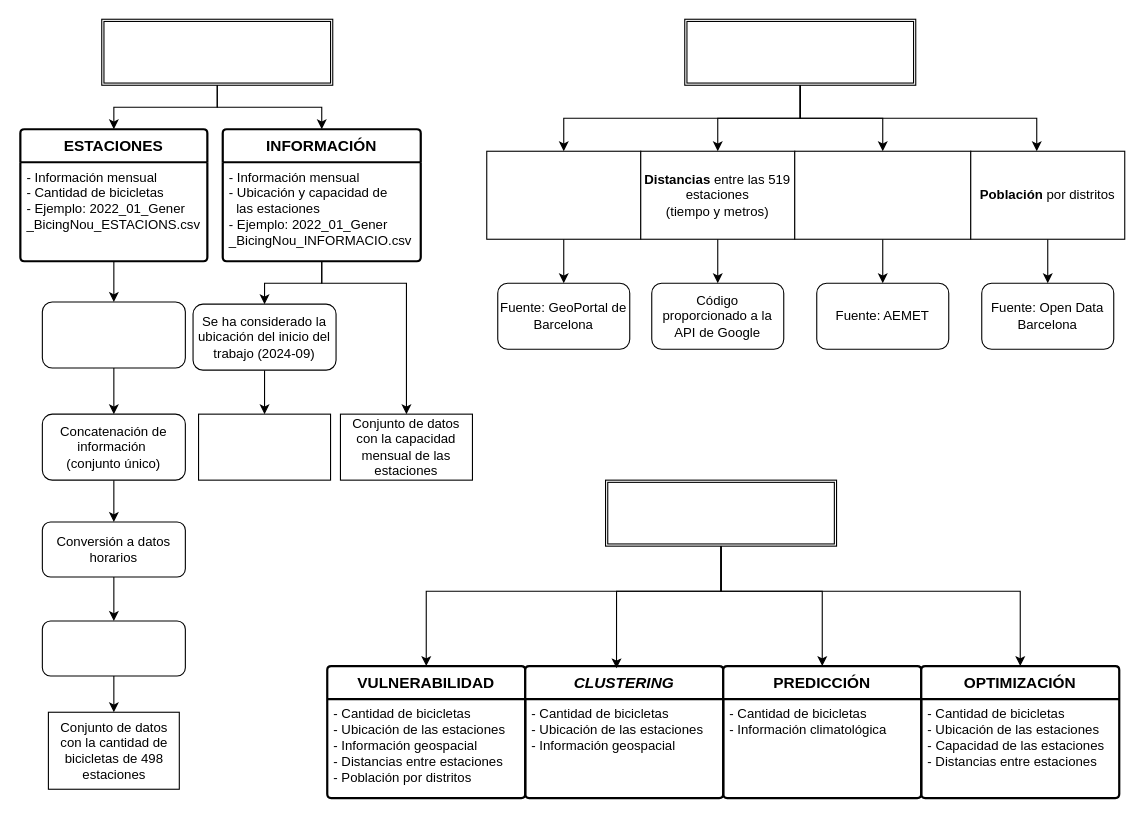
The diagram is 1144 pixels wide and 818 high, and some of its shapes have lost their labels. The centre of each missing label's shape, as x and y in pixels:
AUXILIARES: the point at 800,51
BICING: the point at 217,51
Conjunto de datos con la ubicación de 519 estaciones: the point at 264,446
Extracción de cantidad de bicicletas: the point at 113,334
Filtrado de estaciones por exceso de vacíos: the point at 113,648
Información climatológica (Barcelona Drassanes y Barcelona Villa Olímpica): the point at 882,194
Información geospacial (archivo .json con la delimitación de los distritos): the point at 563,194
USO: the point at 720,512
